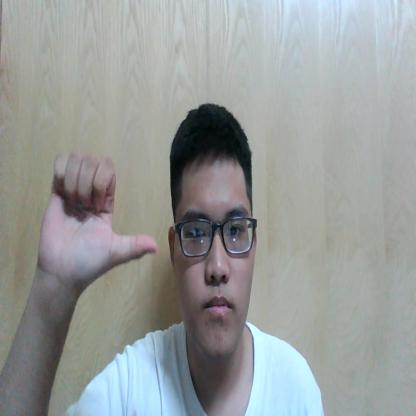left: (39, 151, 156, 290)
